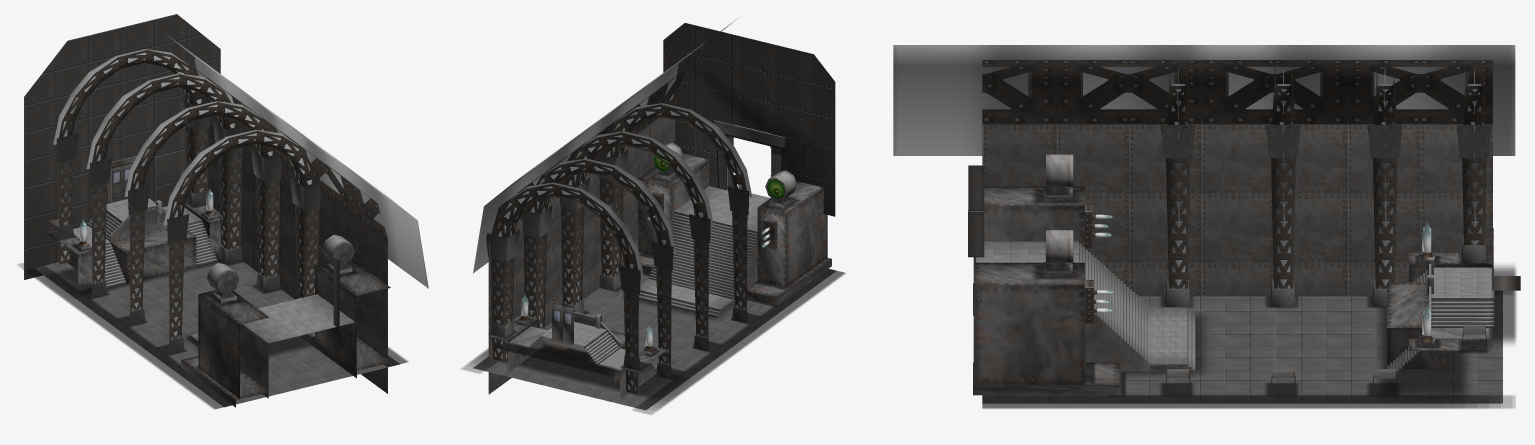
Rendered from sellbot_lobby.glb.
The picture shows the model from 3 angles, left to right: view 1: azimuth 30°, elevation 25°; view 2: azimuth 150°, elevation 25°; view 3: azimuth 270°, elevation 25°; orthographic projection. The views are drawn at different scales.
Parts seen in each view (by area): view 1: frontWall, wallsCeiling, floor1, arch (×3), skyGeo, pCube61, column1 (×2), SquareShadow34, column (×3), pCube19, polySurface288 (×3), stairs11 (+30 smaller); view 2: back_wall, floor1, wallsCeiling, arch (×3), pCube61, stairs11, SquareShadow34, skyGeo (×2), column1 (×2), column (×3), polySurface288 (×3), SquareShadow17 (+26 smaller); view 3: wallsCeiling, floor1, skyGeo (×2), pCube19, polySurface290, SquareShadow35, column (×3), stairs11, pCube61, twoStairs, mid1 (×3), SquareShadow17 (+18 smaller).
Part boxes in pixels (bbox=[...]): frontWall: bbox=[24, 14, 220, 279]; wallsCeiling: bbox=[166, 47, 387, 393]; floor1: bbox=[34, 254, 399, 407]; arch (×3): bbox=[56, 50, 277, 201]; skyGeo: bbox=[166, 34, 428, 288]; pCube61: bbox=[198, 290, 269, 398]; column1 (×2): bbox=[218, 150, 280, 277]; SquareShadow34: bbox=[18, 263, 231, 409]; column (×3): bbox=[58, 159, 145, 311]; pCube19: bbox=[315, 259, 390, 370]; polySurface288 (×3): bbox=[53, 49, 272, 196]; stairs11: bbox=[242, 294, 354, 343]; back_wall: bbox=[663, 23, 835, 216]; floor1: bbox=[473, 269, 835, 410]; wallsCeiling: bbox=[488, 53, 707, 394]; arch (×3): bbox=[493, 132, 710, 269]; pCube61: bbox=[757, 181, 827, 287]; stairs11: bbox=[648, 186, 770, 299]; SquareShadow34: bbox=[632, 269, 845, 414]; skyGeo (×2): bbox=[473, 17, 739, 273]; column1 (×2): bbox=[523, 206, 584, 328]; column (×3): bbox=[623, 239, 708, 394]; polySurface288 (×3): bbox=[498, 131, 713, 276]; SquareShadow17: bbox=[499, 346, 676, 397]; wallsCeiling: bbox=[982, 60, 1492, 296]; floor1: bbox=[982, 291, 1502, 403]; skyGeo (×2): bbox=[893, 45, 1515, 155]; pCube19: bbox=[973, 262, 1085, 384]; polySurface290: bbox=[982, 60, 1492, 124]; SquareShadow35: bbox=[982, 395, 1514, 408]; column (×3): bbox=[1271, 158, 1486, 288]; stairs11: bbox=[976, 241, 1149, 362]; pCube61: bbox=[973, 186, 1084, 262]; twoStairs: bbox=[1431, 269, 1494, 327]; mid1 (×3): bbox=[1266, 125, 1491, 158]; SquareShadow17: bbox=[1378, 307, 1467, 395].
Bounding box in the file's own units: 105 × 124 × 214.
29 materials, 26 textured.
